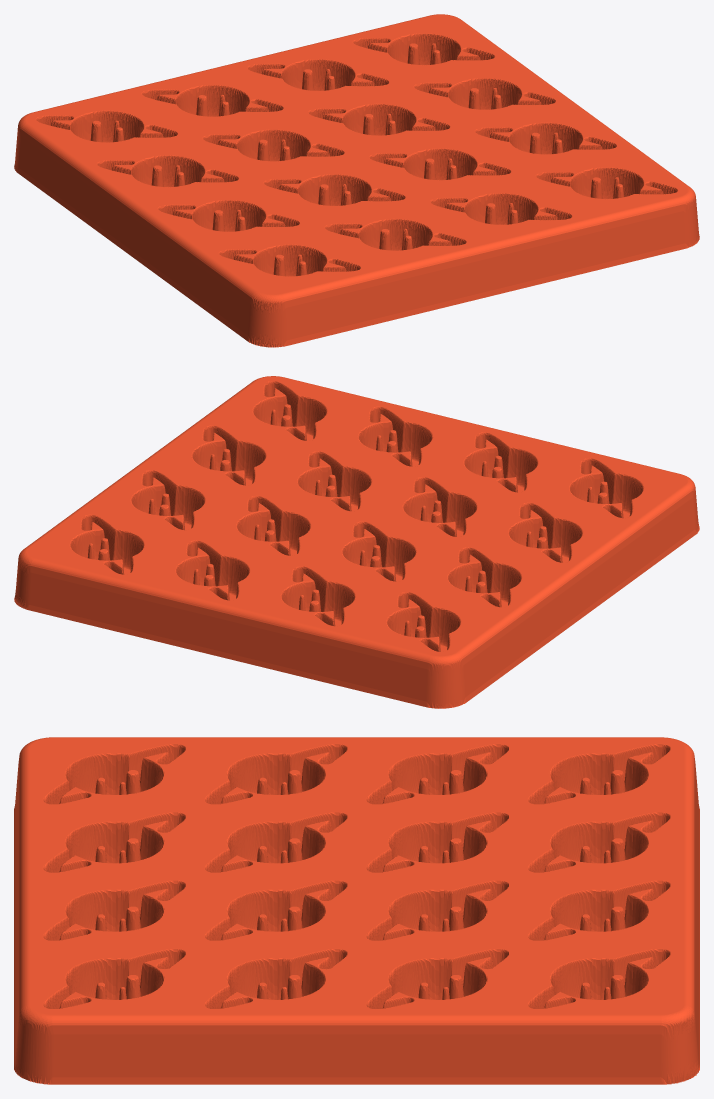
The model's file is mold.glb.
The picture shows the model from 3 angles, top to bottom: view 1: azimuth 30°, elevation 25°; view 2: azimuth 150°, elevation 25°; view 3: azimuth 270°, elevation 25°; orthographic projection. The views are drawn at different scales.
Parts seen in each view (by area): view 1: geometry_0; view 2: geometry_0; view 3: geometry_0.
Part boxes in pixels (left/top/right/bottom): geometry_0: left=14, top=14, right=699, bottom=347; geometry_0: left=14, top=376, right=699, bottom=708; geometry_0: left=14, top=737, right=699, bottom=1084.
Bounding box in the file's own units: 0.1569 × 0.0159 × 0.1569.
